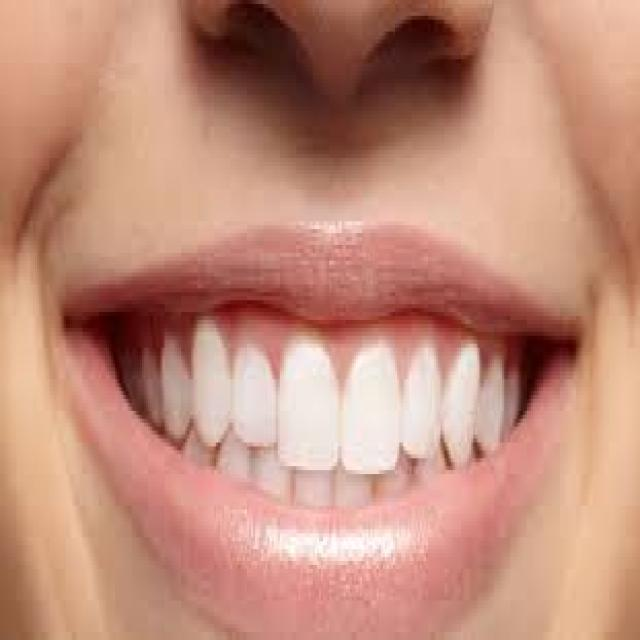tooth: (284, 340, 335, 482), (342, 340, 397, 462), (230, 352, 278, 438), (406, 356, 442, 454), (198, 332, 228, 442), (448, 352, 476, 462), (167, 344, 189, 438), (482, 372, 504, 442), (142, 348, 161, 418), (508, 363, 519, 423)
